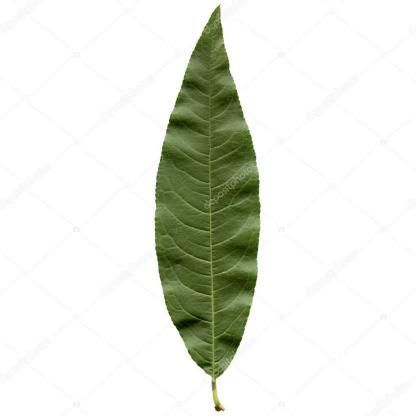Peach leaf: (151, 4, 262, 416)
